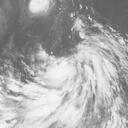cyclone: (38, 25, 107, 88), (29, 1, 50, 15)
